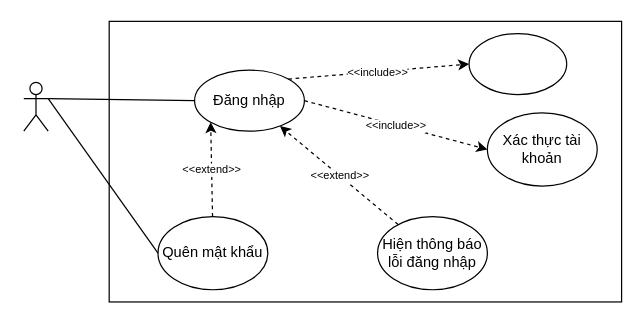
The diagram is 643 pixels wide and 323 high, and some of its shapes have lost their labels. The shapes that lost their labels are listed below. From the top down, each one's box as (x1, y1, x2, y2) in pixels, then its label:
(468, 32, 567, 95): Đăng ký
(23, 81, 48, 131): User
